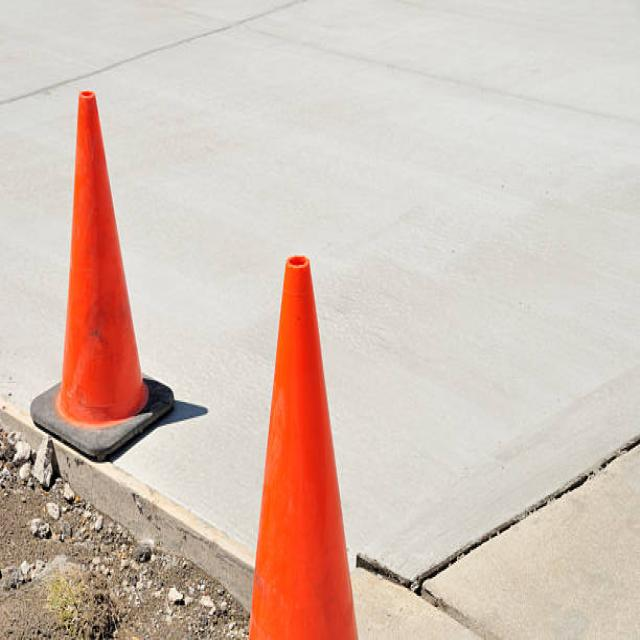Traffic Cone: (15, 42, 188, 478)
